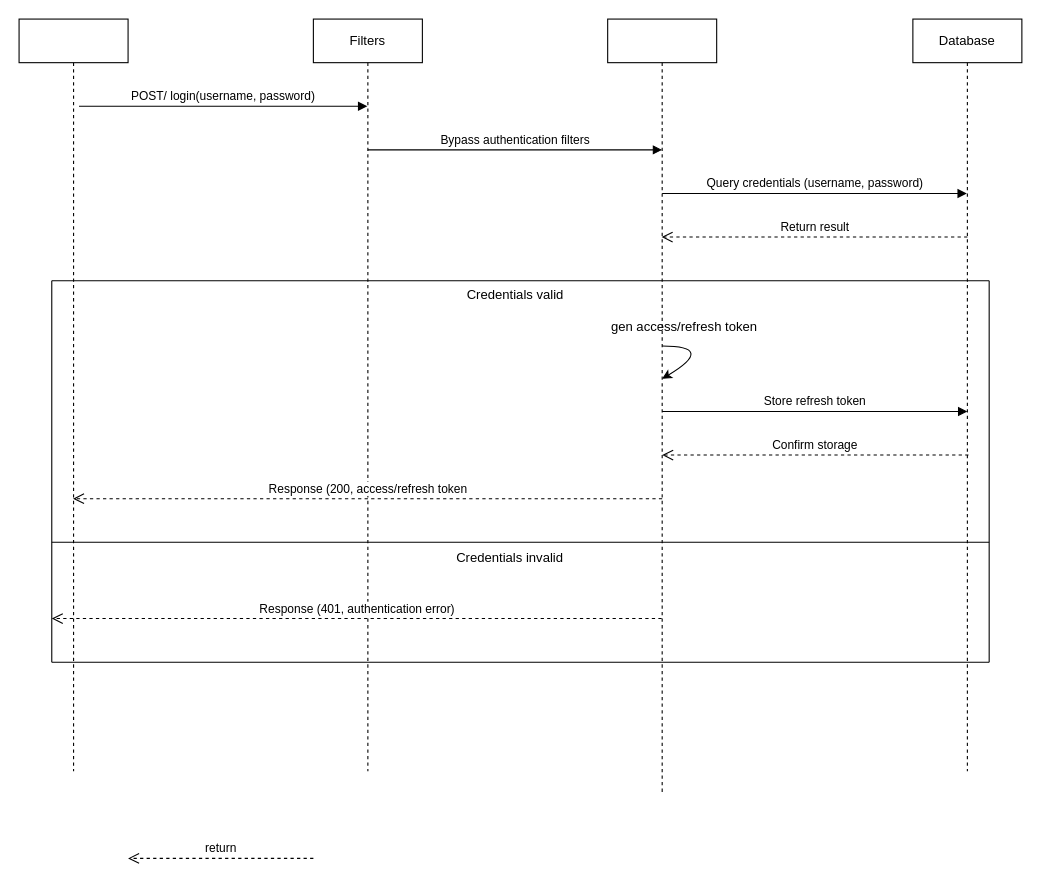
This 1041x888 diagram has some shape labels left out. Each missing label, with the box of its shape:
Client: (18, 18, 128, 771)
Server: (607, 18, 717, 793)
